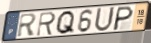6: (77, 8, 94, 34)
P: (111, 5, 135, 32)
Q: (55, 9, 77, 35)
R: (16, 12, 39, 39), (35, 11, 57, 38)
U: (93, 6, 116, 33)
